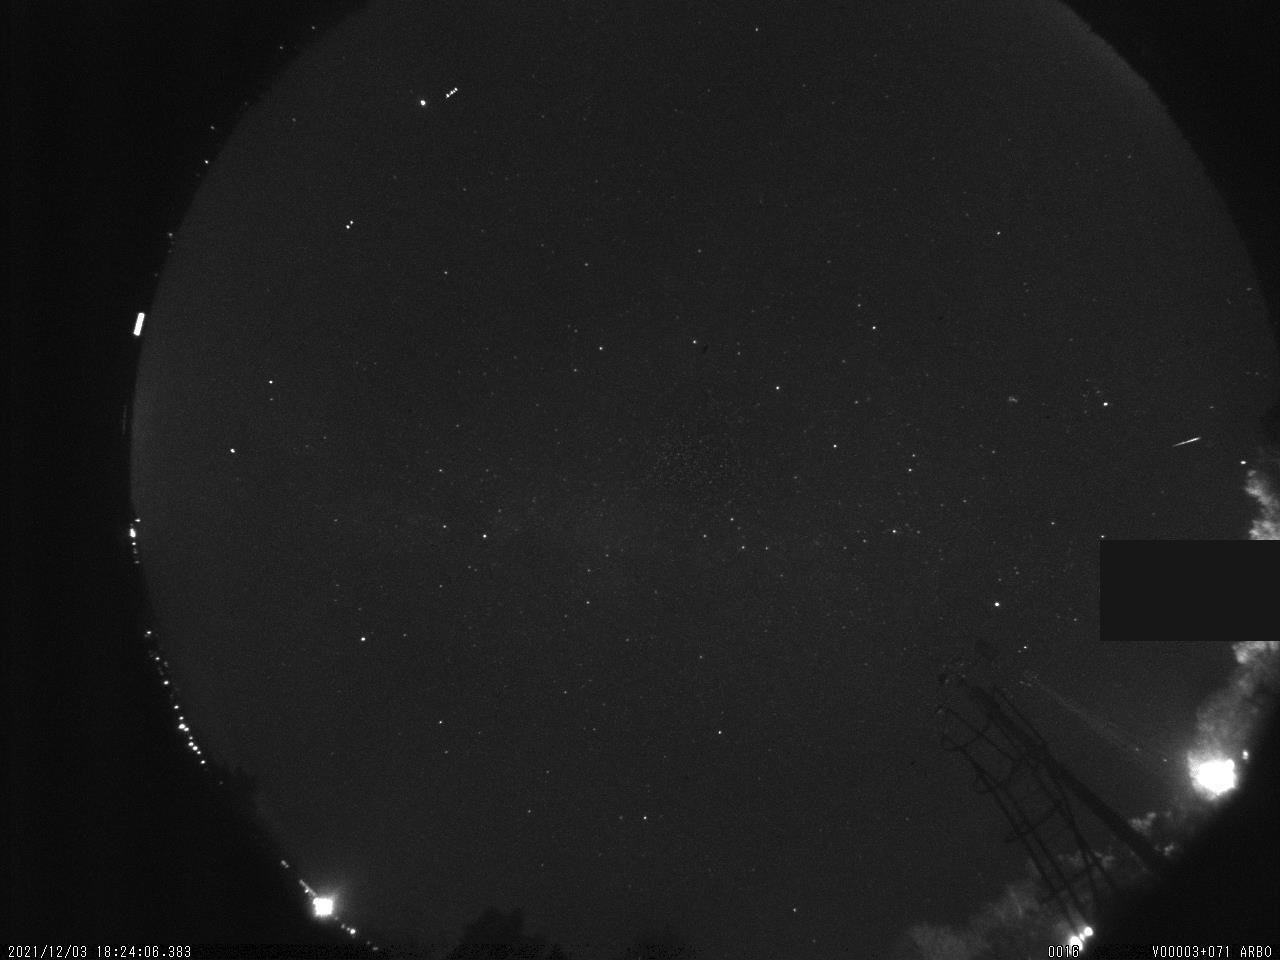meteor: (1166, 428, 1211, 453)
